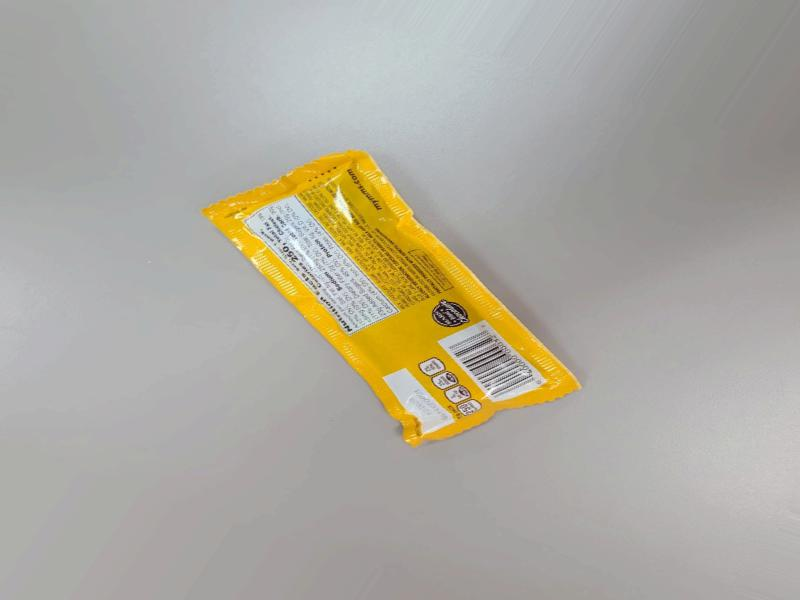m&m: (240, 141, 597, 439)
